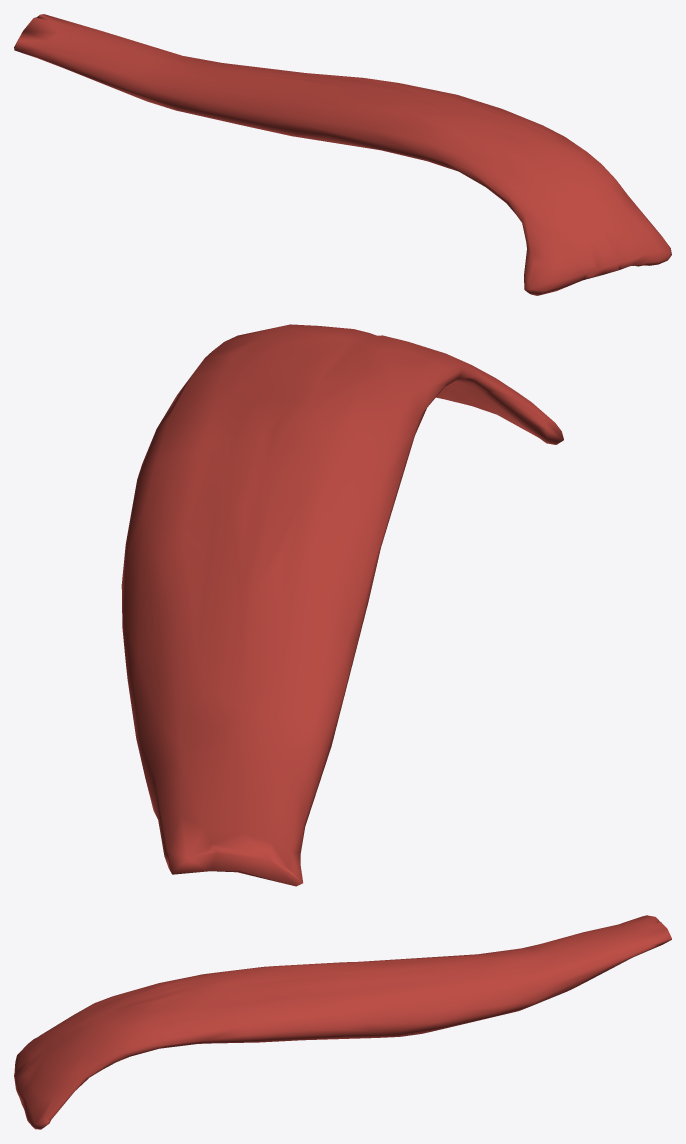
Rendered from musculos-superior-rectus-muscle-l.glb.
3 views of the same model, one above another, from view 1: azimuth 30°, elevation 25°; view 2: azimuth 150°, elevation 25°; view 3: azimuth 270°, elevation 25° (orthographic). The views are drawn at different scales.
Visible parts, largest first — view 1: Superior rectus muscle.l; view 2: Superior rectus muscle.l; view 3: Superior rectus muscle.l.
Part boxes in pixels (<box>): Superior rectus muscle.l: <box>14,14,671,295</box>; Superior rectus muscle.l: <box>121,324,563,886</box>; Superior rectus muscle.l: <box>14,915,671,1129</box>.
Size of the model in its own units: 0.0229 by 0.00645 by 0.0406.
